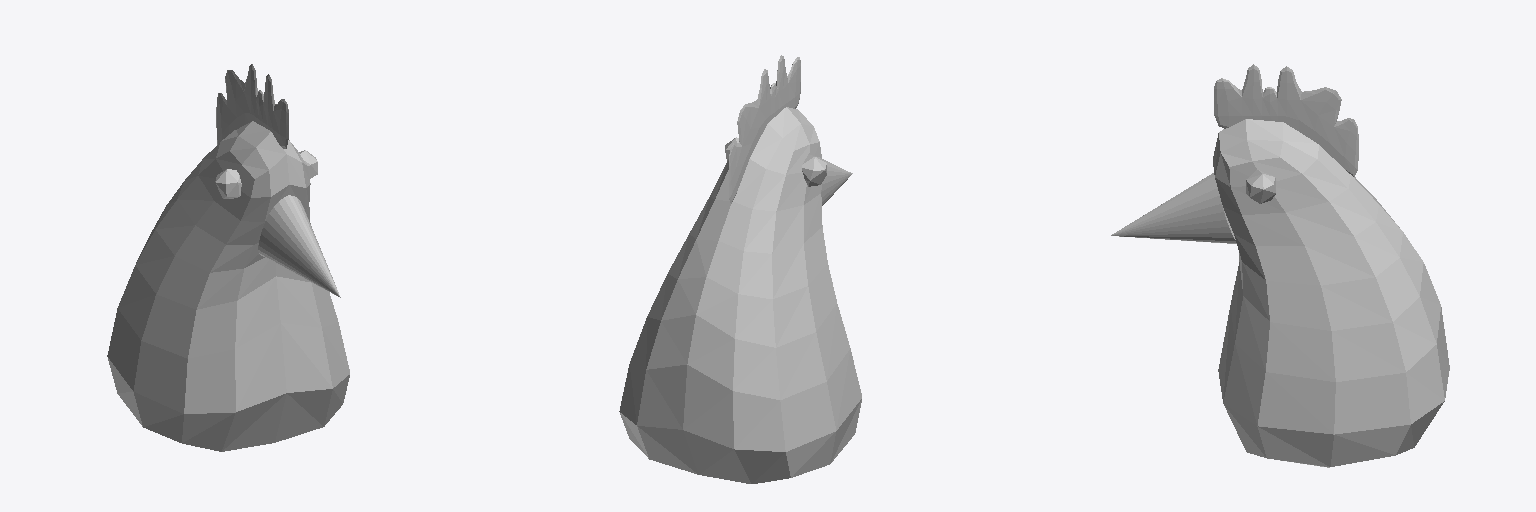
The model's file is Gallina_Cabeza.obj.
3 views of the same model, side by side, from view 1: azimuth 30°, elevation 25°; view 2: azimuth 150°, elevation 25°; view 3: azimuth 270°, elevation 25° (orthographic).
Parts seen in each view (by area): view 1: Ojos.001_Sphere.001; view 2: Ojos.001_Sphere.001; view 3: Ojos.001_Sphere.001.
Boxes of the visible parts, x1=… form: Ojos.001_Sphere.001: x1=107, y1=64, x2=349, y2=451; Ojos.001_Sphere.001: x1=619, y1=55, x2=861, y2=483; Ojos.001_Sphere.001: x1=1111, y1=64, x2=1449, y2=467.
Size of the model in its own units: 0.1004 by 0.1927 by 0.1547.